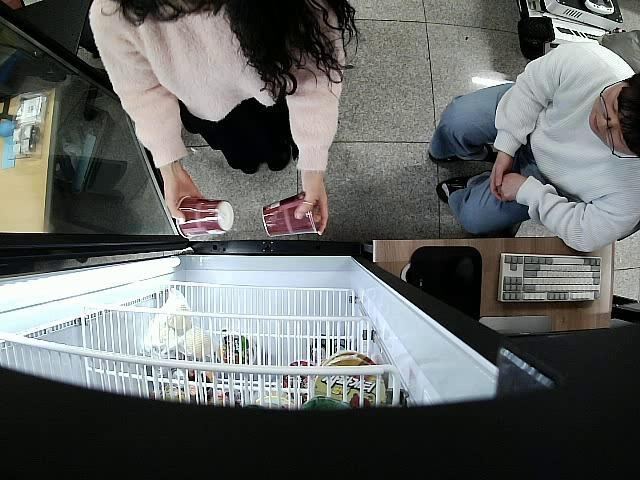06_nuguri_S: (174, 194, 233, 242), (260, 192, 320, 238)
